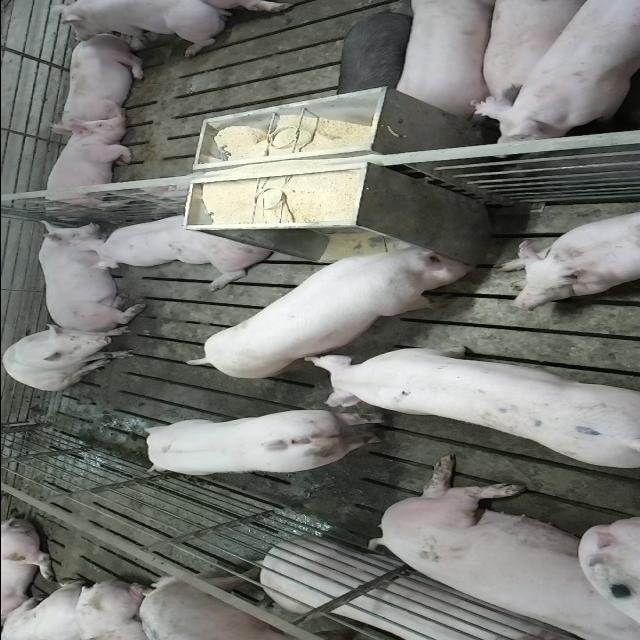Lateral_lying: (362, 453, 636, 635), (260, 538, 578, 640)
Sitting: (3, 323, 138, 391)
Standing: (303, 343, 635, 471), (183, 240, 474, 378), (468, 2, 640, 142), (137, 568, 406, 640), (136, 411, 388, 481), (331, 4, 416, 106)
Sternal_lying: (499, 205, 640, 306), (85, 210, 274, 284), (30, 222, 136, 328), (39, 3, 231, 56), (37, 118, 137, 216), (53, 32, 148, 130)
